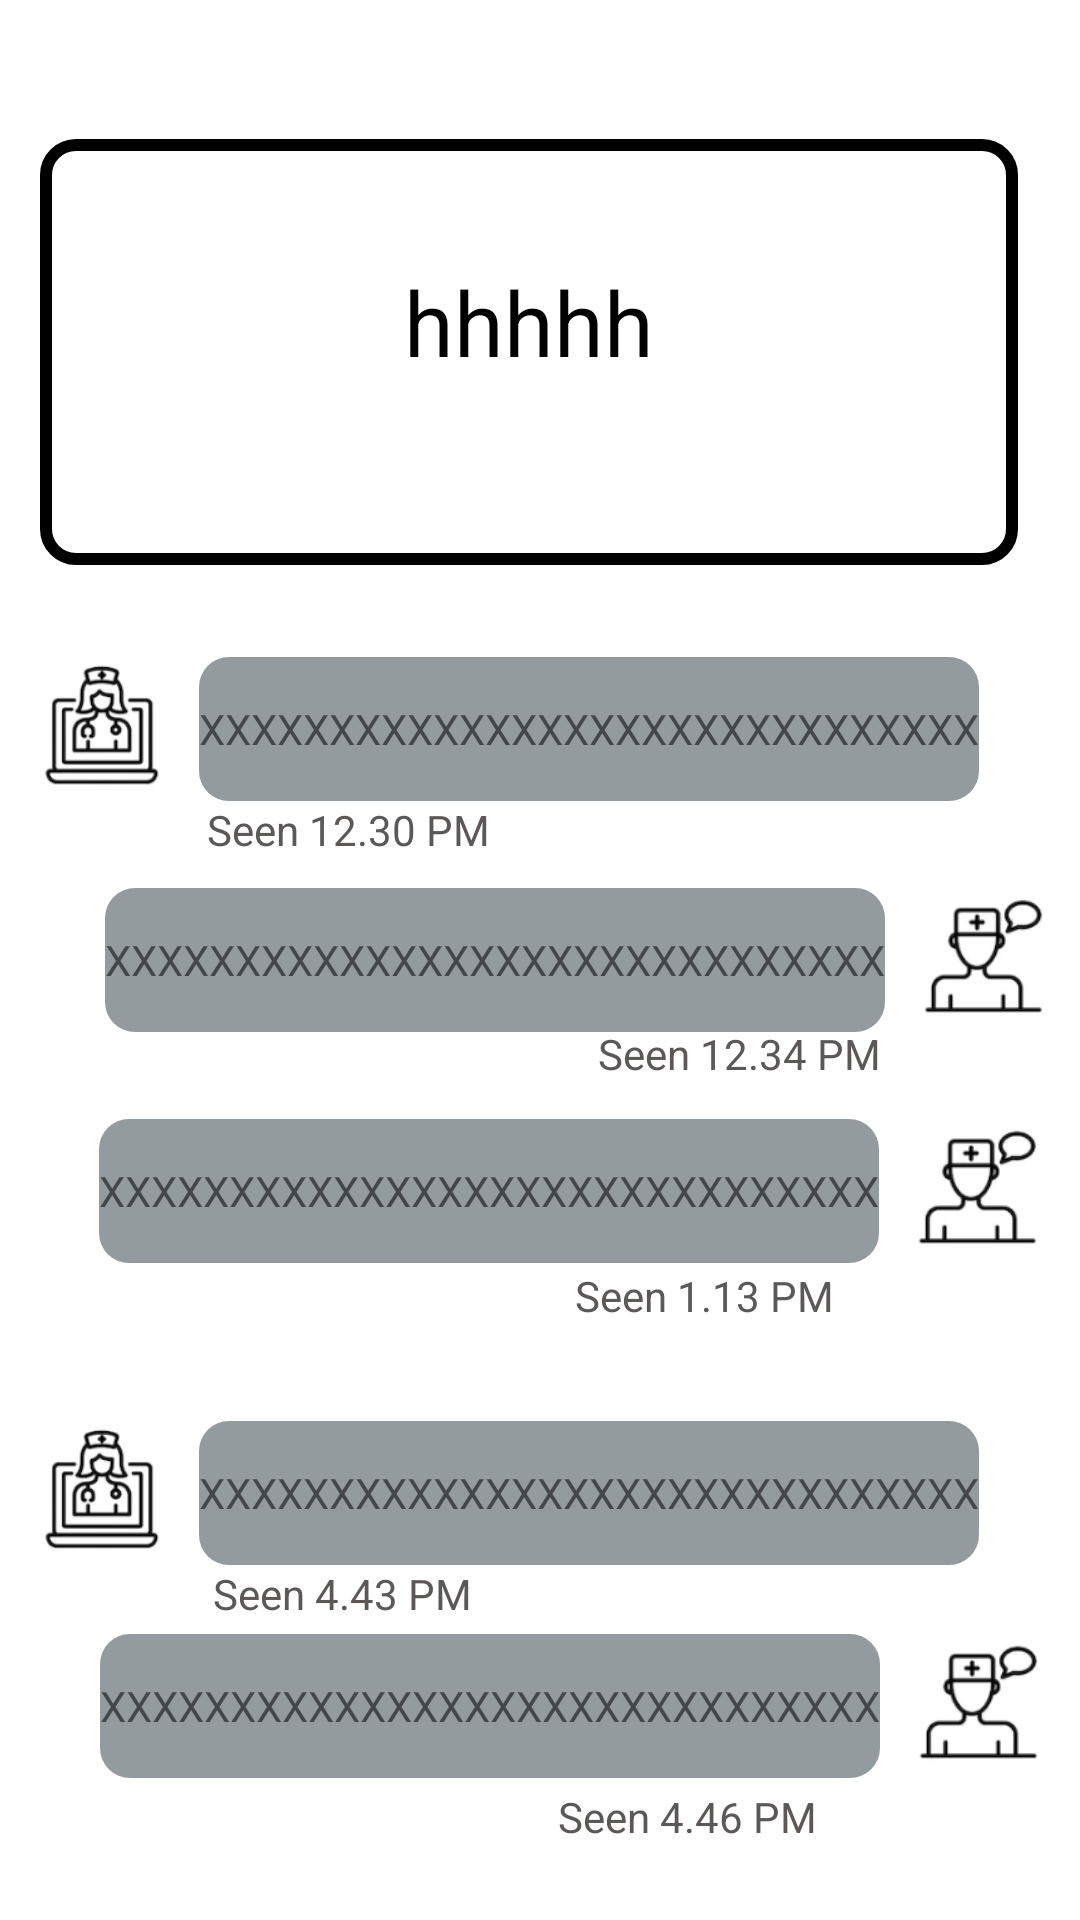

Named icons in this screenshot (1080 × 1920) and their centers, (x=x, y=y):
professional: (x=102, y=725), (x=102, y=1489)
